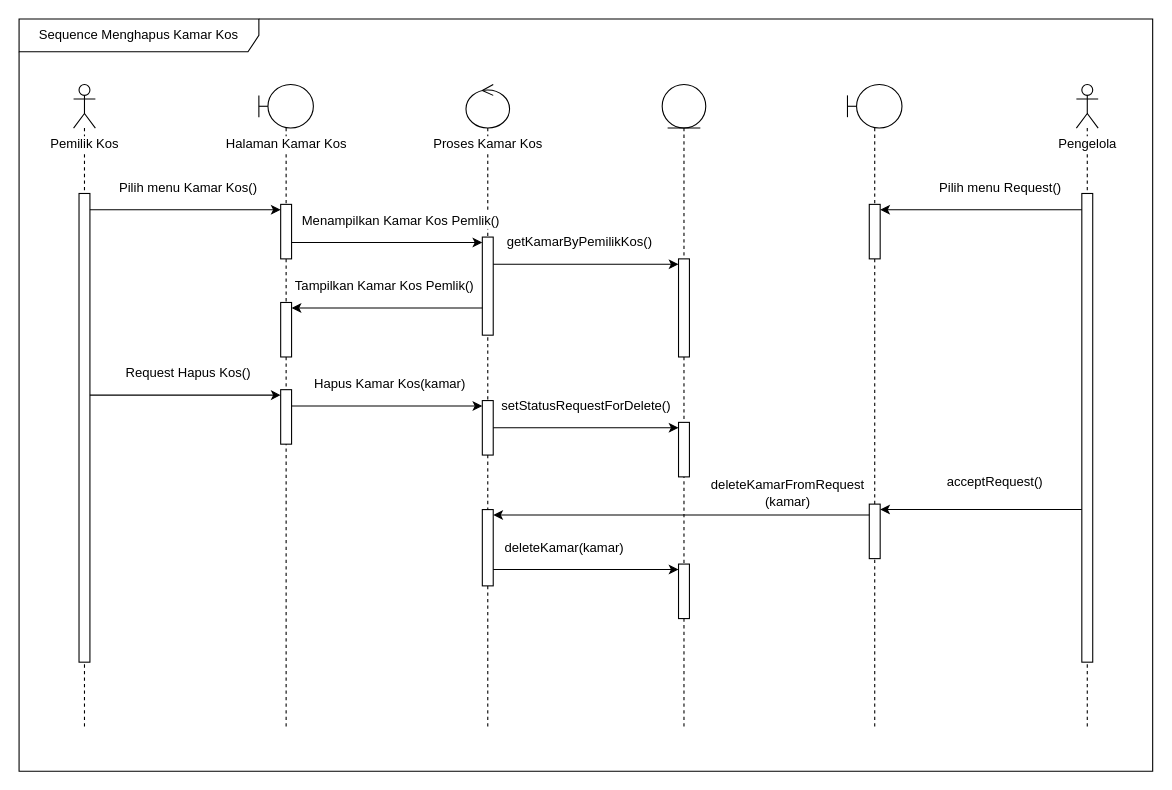
Some shapes in this 1172 by 790 pixel diagram are drawn without their labels. Here are the shapes that lost their labels. From the top down, the box of each, then its label:
(661, 83, 706, 728): Kamar Kos
(846, 83, 902, 728): Halaman Request
